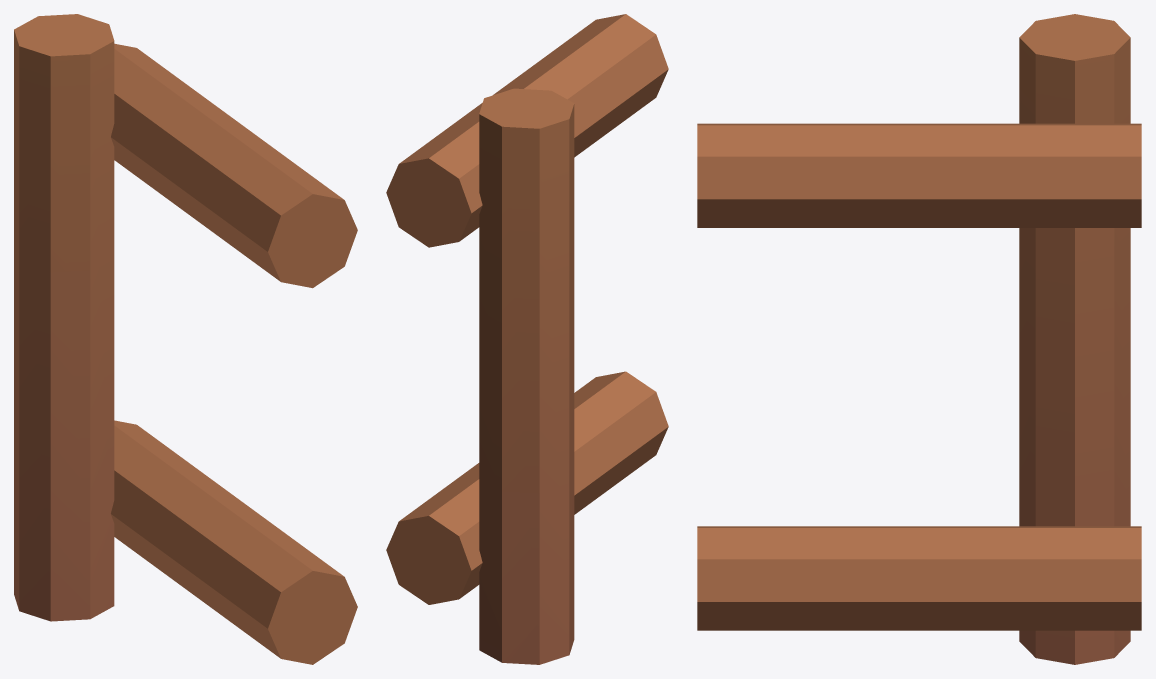
The model's file is LogFence2.fbx.
3 renders of one model, left to right at view 1: azimuth 30°, elevation 25°; view 2: azimuth 150°, elevation 25°; view 3: azimuth 270°, elevation 25°, orthographic. The views are drawn at different scales.
Visible parts, largest first — view 1: Cylinder.069; view 2: Cylinder.069; view 3: Cylinder.069.
Boxes of the visible parts, left/top/right/bottom form: Cylinder.069: left=14, top=14, right=357, bottom=664; Cylinder.069: left=386, top=14, right=668, bottom=664; Cylinder.069: left=697, top=14, right=1141, bottom=664.
Bounding box in the file's own units: 45 × 150 × 100.
